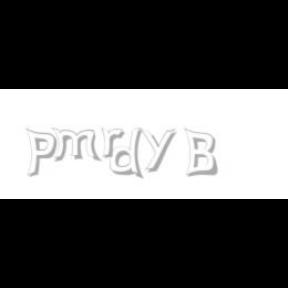B: (183, 128, 217, 178)
P: (25, 128, 57, 178)
d: (110, 128, 146, 180)
m: (50, 128, 102, 162)
r: (100, 128, 128, 158)
y: (140, 128, 180, 172)
